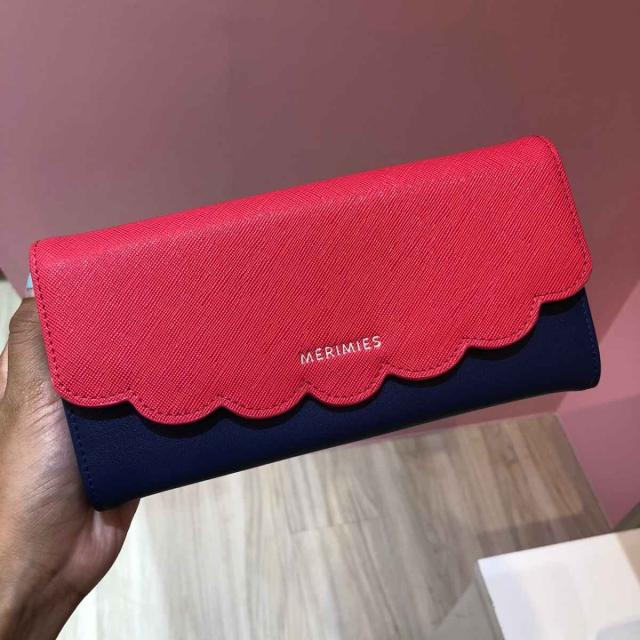bag: (0, 130, 608, 523)
